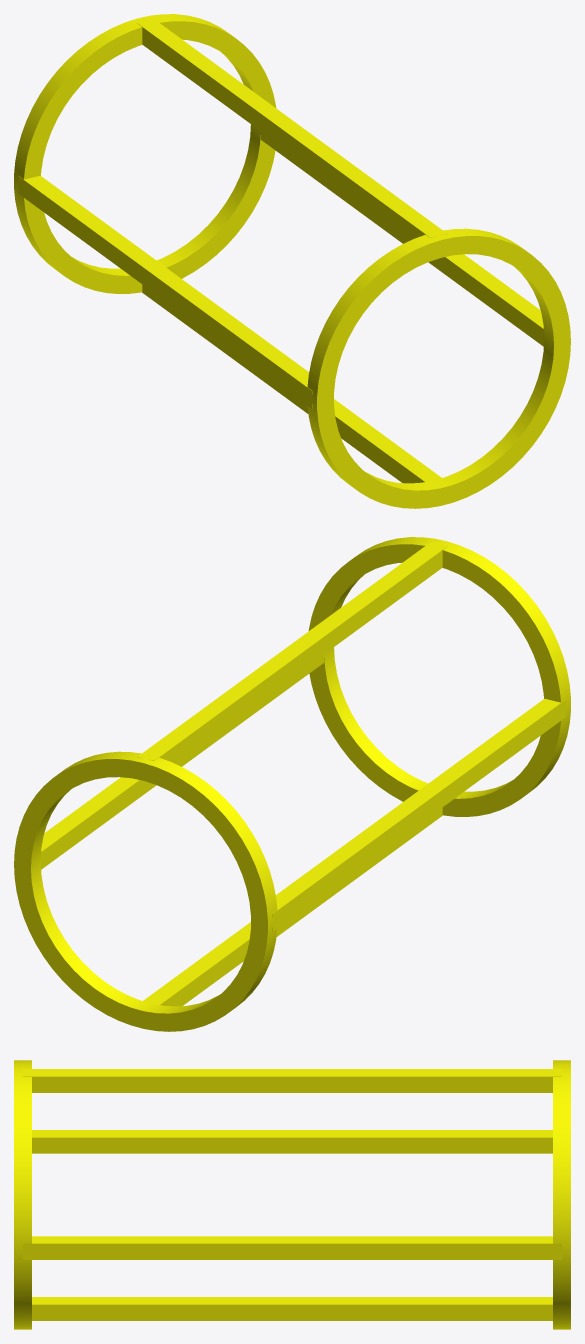
The model's file is antennaOutline.obj.
The picture shows the model from 3 angles, top to bottom: view 1: azimuth 30°, elevation 25°; view 2: azimuth 150°, elevation 25°; view 3: azimuth 270°, elevation 25°; orthographic projection. The views are drawn at different scales.
Visible parts, largest first — view 1: object_1; view 2: object_1; view 3: object_1.
Boxes of the visible parts, left/top/right/bottom form: object_1: left=14, top=14, right=570, bottom=508; object_1: left=14, top=537, right=570, bottom=1031; object_1: left=14, top=1060, right=570, bottom=1329.
Size of the model in its own units: 7.5 by 7.5 by 15.5.
